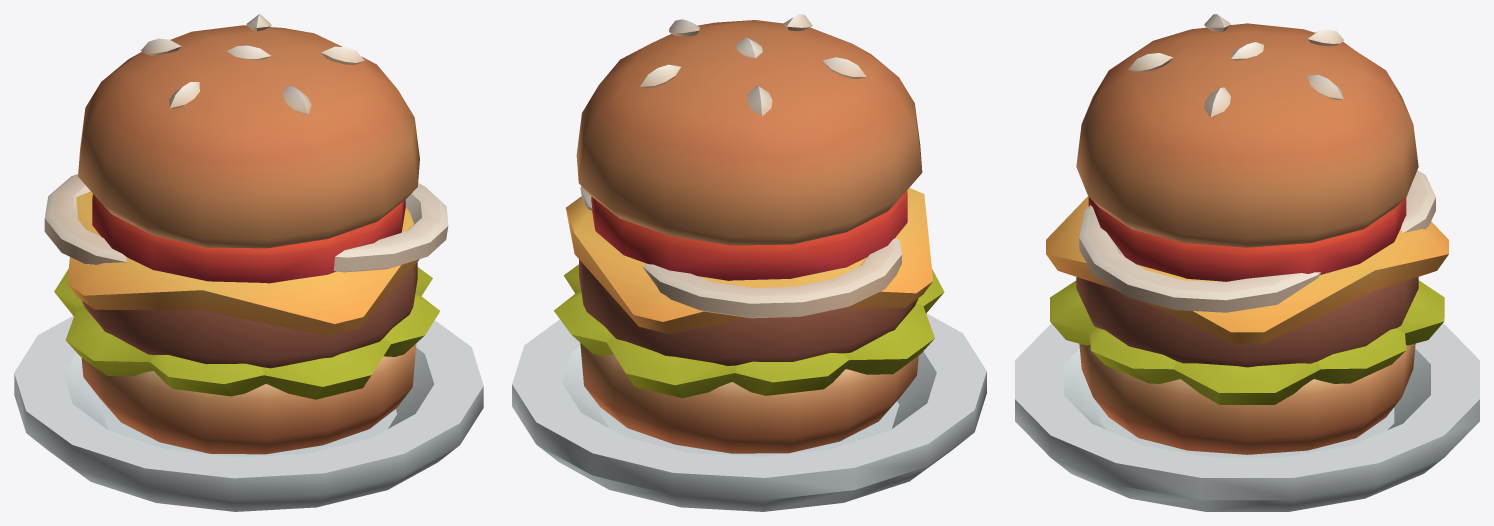
Rendered from kay-hamburguer.gltf.
3 renders of one model, left to right at view 1: azimuth 30°, elevation 25°; view 2: azimuth 150°, elevation 25°; view 3: azimuth 270°, elevation 25°, orthographic.
Parts seen in each view (by area): view 1: food_burger; view 2: food_burger; view 3: food_burger.
Part boxes in pixels (bbox=[...]): food_burger: bbox=[14, 14, 483, 511]; food_burger: bbox=[512, 14, 986, 511]; food_burger: bbox=[1015, 14, 1479, 511].
Size of the model in its own units: 0.6175 by 0.5572 by 0.6175.
Materials: 1 (1 with a texture image).
